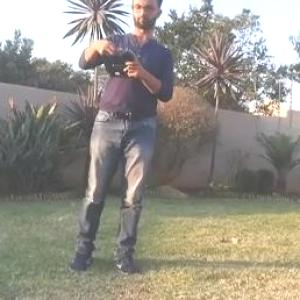follow: (64, 0, 183, 279)
